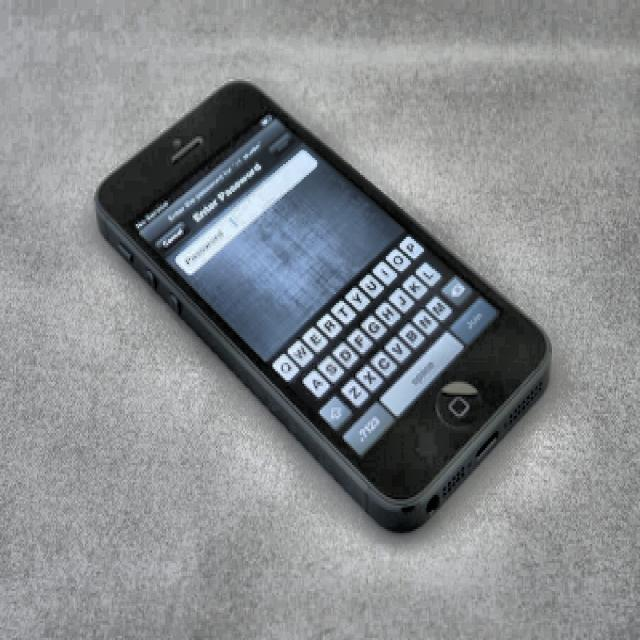Phone: (96, 80, 551, 535)
